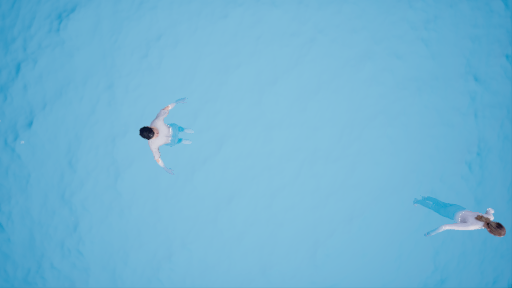person: (130, 92, 201, 170), (418, 191, 508, 249)
